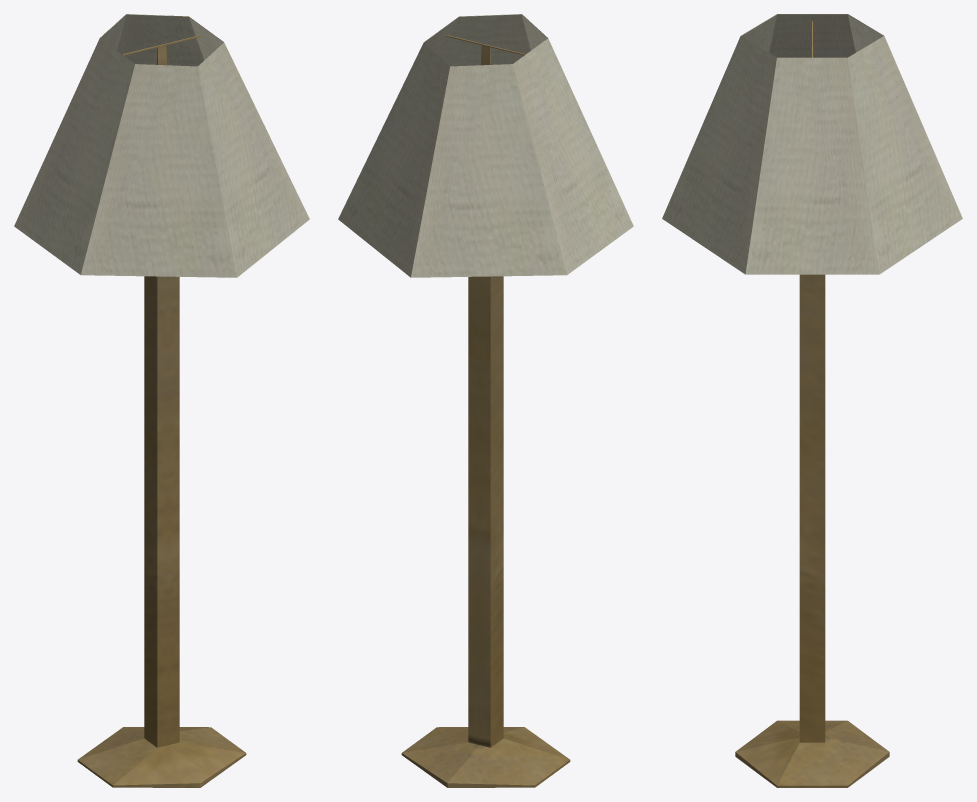
The model's file is Lampe.fbx.
The picture shows the model from 3 angles, left to right: view 1: azimuth 30°, elevation 25°; view 2: azimuth 150°, elevation 25°; view 3: azimuth 270°, elevation 25°; orthographic projection.
Visible parts, largest first — view 1: Cube; view 2: Cube; view 3: Cube.
Boxes of the visible parts, bbox=[...] form: Cube: bbox=[14, 14, 309, 787]; Cube: bbox=[338, 14, 633, 787]; Cube: bbox=[662, 14, 962, 787].
Size of the model in its own units: 344 by 1031 by 390.
Materials: 1 (1 with a texture image).
